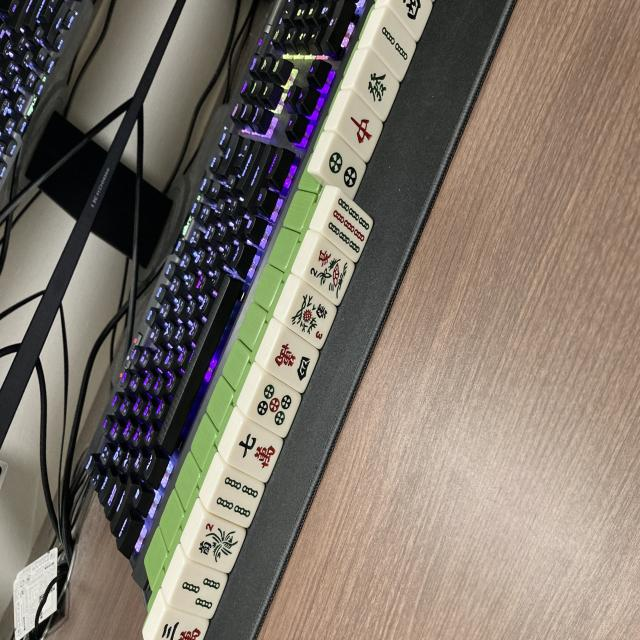f2: (189, 514, 246, 572)
f3: (283, 284, 340, 350)
fa: (352, 52, 403, 121)
ff2: (299, 239, 358, 307)
m3: (152, 609, 210, 640)
m4: (261, 329, 321, 394)
m7: (226, 422, 284, 484)
s2: (368, 11, 420, 81)
s3: (170, 567, 227, 621)
s4: (208, 467, 267, 529)
s9: (323, 195, 376, 261)
t2: (319, 136, 369, 200)
t5: (246, 374, 304, 441)
west: (388, 0, 435, 39)
zhong: (333, 94, 385, 162)
